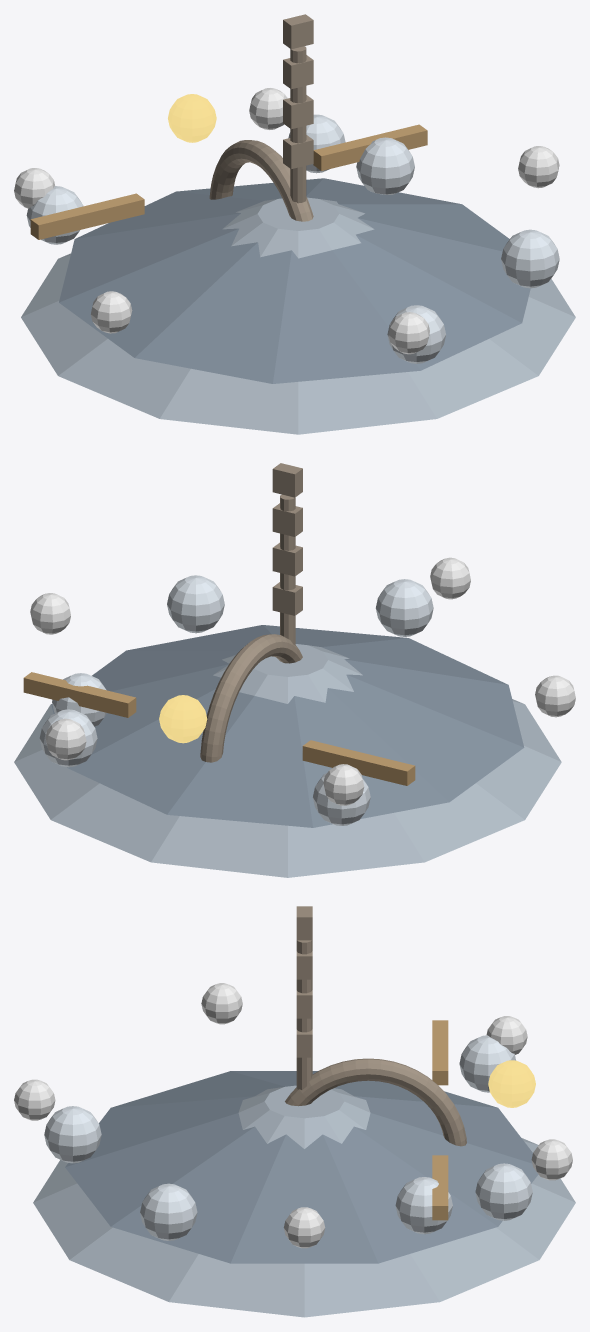
File: mine_silver.glb
3 views of the same model, one above another, from view 1: azimuth 30°, elevation 25°; view 2: azimuth 150°, elevation 25°; view 3: azimuth 270°, elevation 25° (orthographic). The views are drawn at different scales.
Parts seen in each view (by area): view 1: mine_perak_mouth.001, mine_perak_doa.001, mine_perak_ajar.001, mine_perak_perak_4.001, mine_perak_beam_-1.001, mine_perak_perak_0.001, mine_perak_beam_1.001, mine_perak_lampu.001, mine_perak_kabut_3.001, mine_perak_kabut_0.001, mine_perak_kabut_4.001, mine_perak_perak_2.001 (+9 smaller); view 2: mine_perak_mouth.001, mine_perak_doa.001, mine_perak_ajar.001, mine_perak_perak_3.001, mine_perak_perak_4.001, mine_perak_beam_1.001, mine_perak_beam_-1.001, mine_perak_lampu.001, mine_perak_perak_2.001, mine_perak_kabut_4.001, mine_perak_kabut_2.001, mine_perak_kabut_0.001 (+9 smaller); view 3: mine_perak_mouth.001, mine_perak_doa.001, mine_perak_ajar.001, mine_perak_perak_1.001, mine_perak_perak_3.001, mine_perak_perak_4.001, mine_perak_perak_0.001, mine_perak_perak_2.001, mine_perak_lampu.001, mine_perak_kabut_3.001, mine_perak_kabut_1.001, mine_perak_kabut_0.001 (+6 smaller).
Boxes of the visible parts, <box> form: mine_perak_mouth.001: <box>59,178,530,383</box>; mine_perak_doa.001: <box>21,197,575,434</box>; mine_perak_ajar.001: <box>209,140,313,221</box>; mine_perak_perak_4.001: <box>501,229,559,288</box>; mine_perak_beam_-1.001: <box>30,193,144,239</box>; mine_perak_perak_0.001: <box>356,137,414,194</box>; mine_perak_beam_1.001: <box>313,124,427,170</box>; mine_perak_lampu.001: <box>168,94,216,142</box>; mine_perak_kabut_3.001: <box>90,291,132,333</box>; mine_perak_kabut_0.001: <box>518,146,559,188</box>; mine_perak_kabut_4.001: <box>388,312,429,354</box>; mine_perak_perak_2.001: <box>26,186,83,244</box>; mine_perak_mouth.001: <box>51,625,524,827</box>; mine_perak_doa.001: <box>14,644,561,877</box>; mine_perak_ajar.001: <box>200,634,302,762</box>; mine_perak_perak_3.001: <box>375,579,433,636</box>; mine_perak_perak_4.001: <box>167,575,224,633</box>; mine_perak_beam_1.001: <box>23,672,136,717</box>; mine_perak_beam_-1.001: <box>302,740,415,785</box>; mine_perak_lampu.001: <box>159,695,207,743</box>; mine_perak_perak_2.001: <box>313,773,370,825</box>; mine_perak_kabut_4.001: <box>430,557,470,599</box>; mine_perak_kabut_2.001: <box>323,764,364,805</box>; mine_perak_kabut_0.001: <box>30,593,70,634</box>; mine_perak_mouth.001: <box>65,1071,538,1263</box>; mine_perak_doa.001: <box>33,1085,575,1317</box>; mine_perak_ajar.001: <box>285,1058,466,1146</box>; mine_perak_perak_1.001: <box>475,1163,532,1220</box>; mine_perak_perak_3.001: <box>44,1106,101,1163</box>; mine_perak_perak_4.001: <box>140,1183,197,1240</box>; mine_perak_perak_0.001: <box>395,1177,452,1234</box>; mine_perak_perak_2.001: <box>459,1035,515,1092</box>; mine_perak_lampu.001: <box>488,1060,535,1107</box>; mine_perak_kabut_3.001: <box>201,983,242,1024</box>; mine_perak_kabut_1.001: <box>531,1139,572,1180</box>; mine_perak_kabut_0.001: <box>283,1207,325,1248</box>.
Size of the model in its own units: 3.57 by 2.26 by 3.52.
